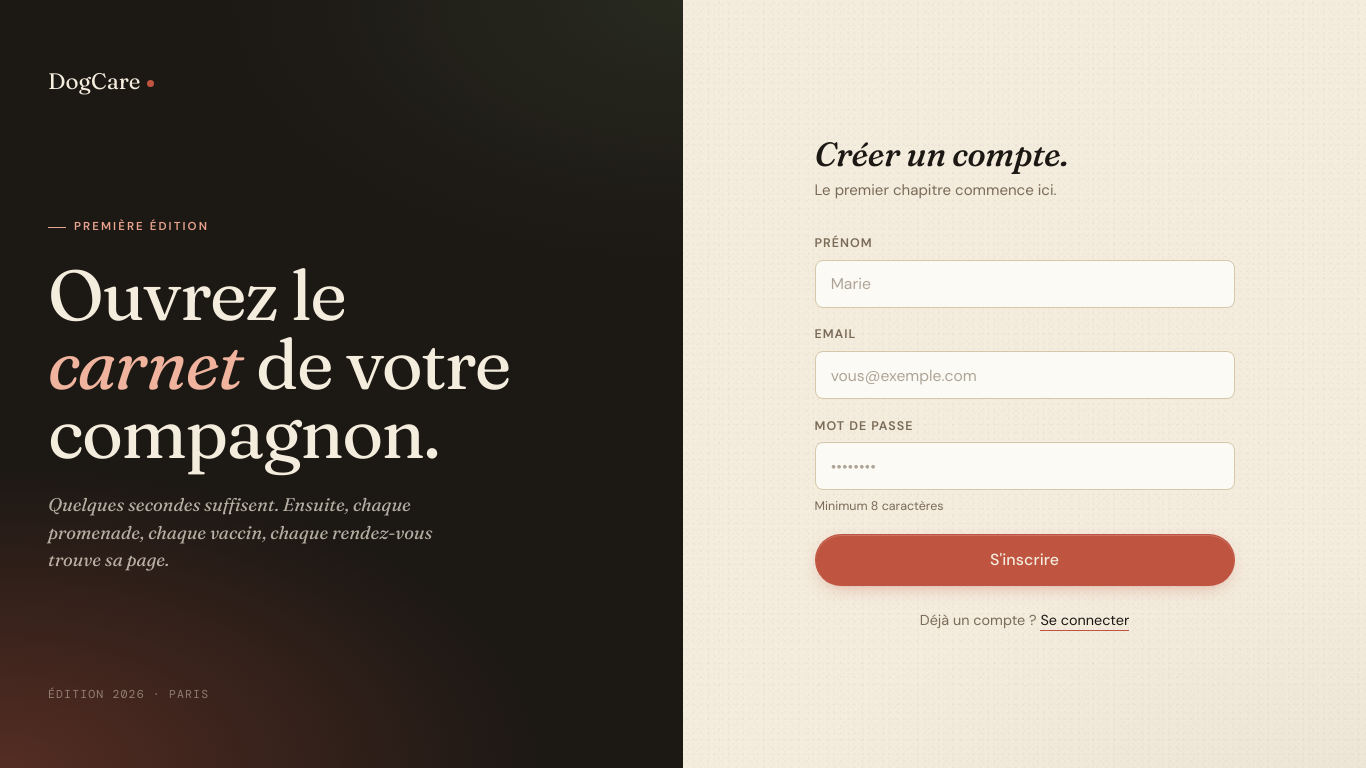
Scenario: RegisterPage › displays the API error message on failure
This screenshot has width=1366, height=768.
Type "Alice" into the field labelled "Prénom" at (1024, 284), box [814,260,1234,308]
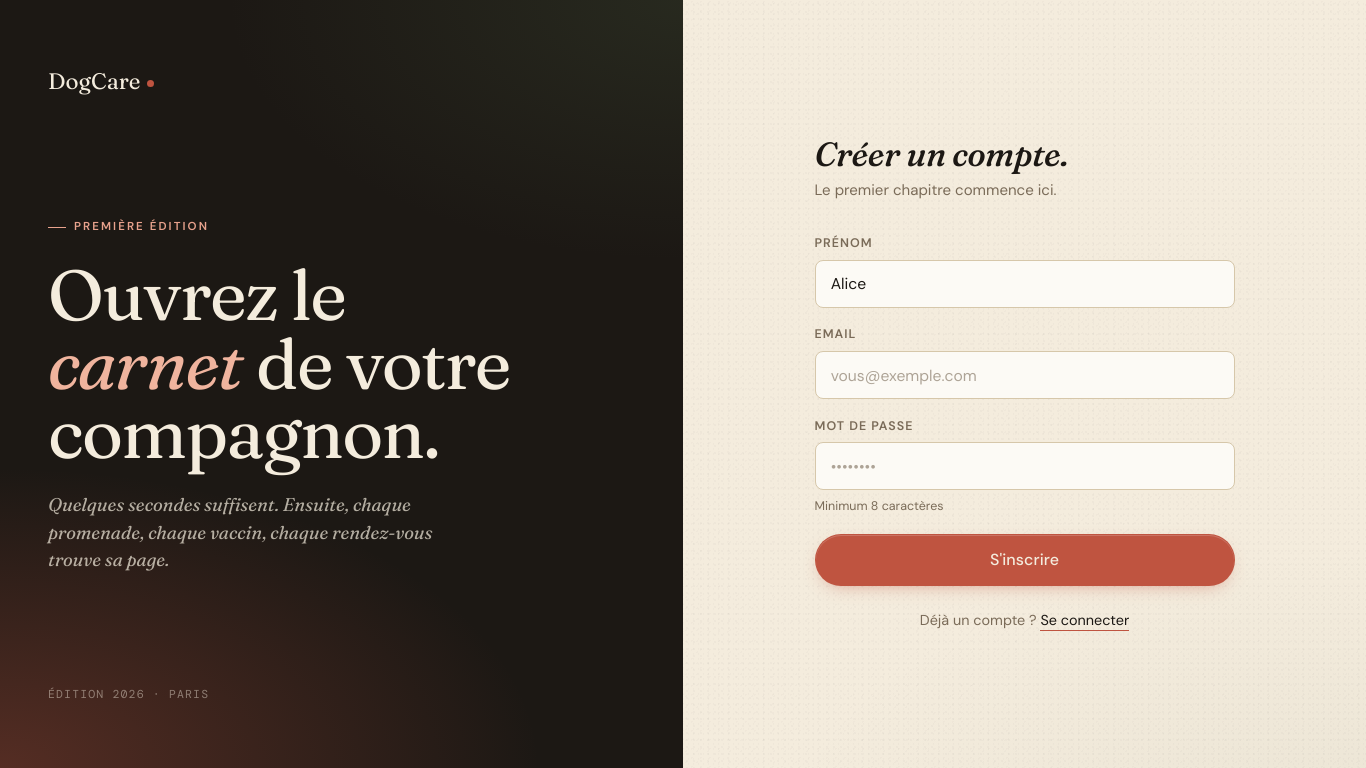
Type "a@b.com" into the field labelled "Email" at (1024, 375), box [814,351,1234,399]
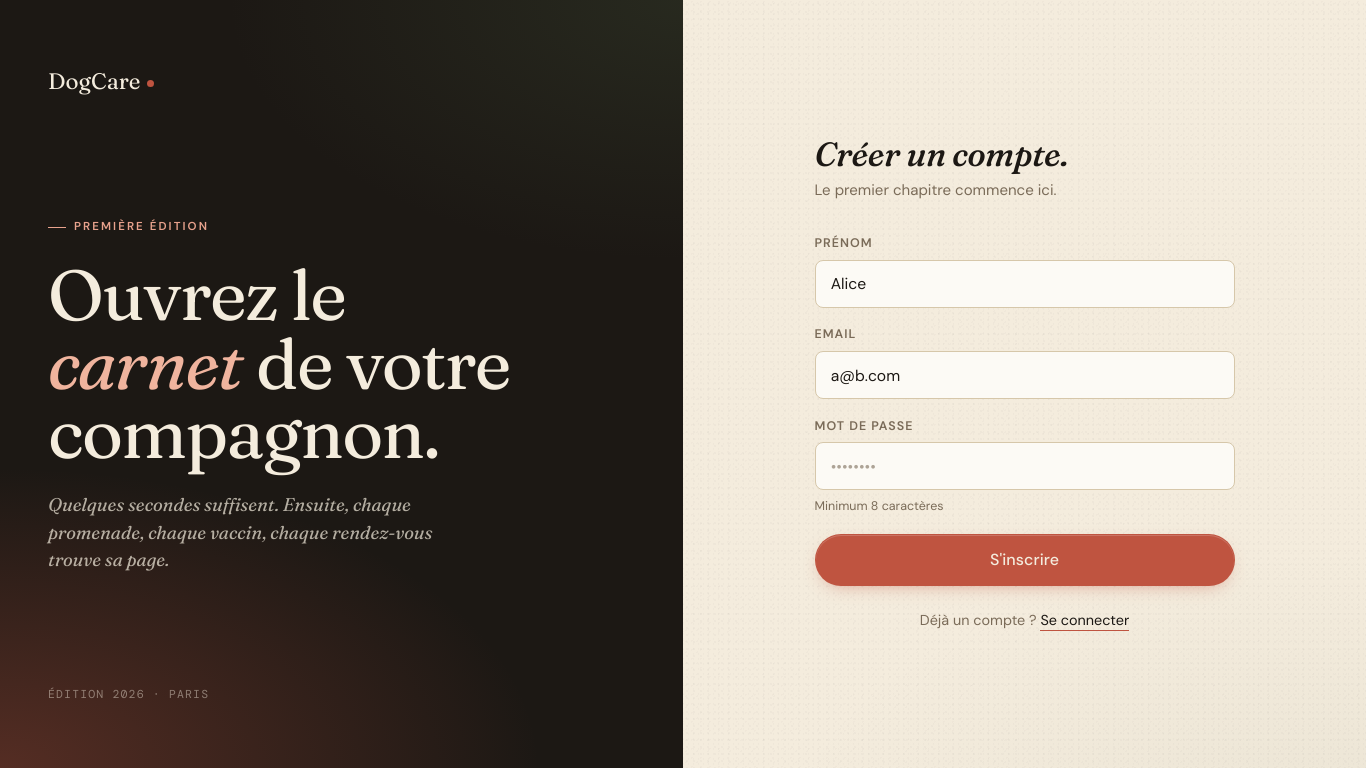
Type "longpass" into the password field labelled "Mot de passe" at (1024, 466), box [814,442,1234,490]
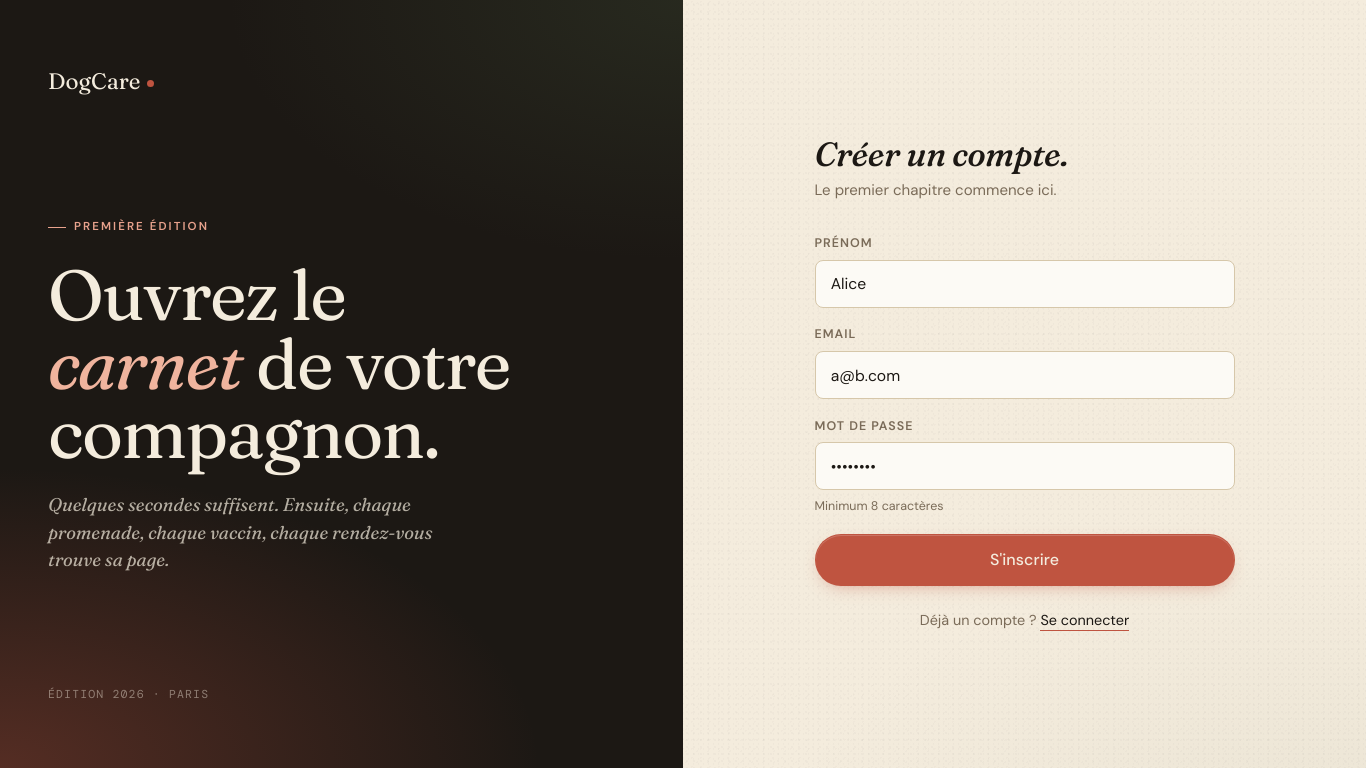
Click the button "S'inscrire" at (1024, 560), box [814,534,1234,586]
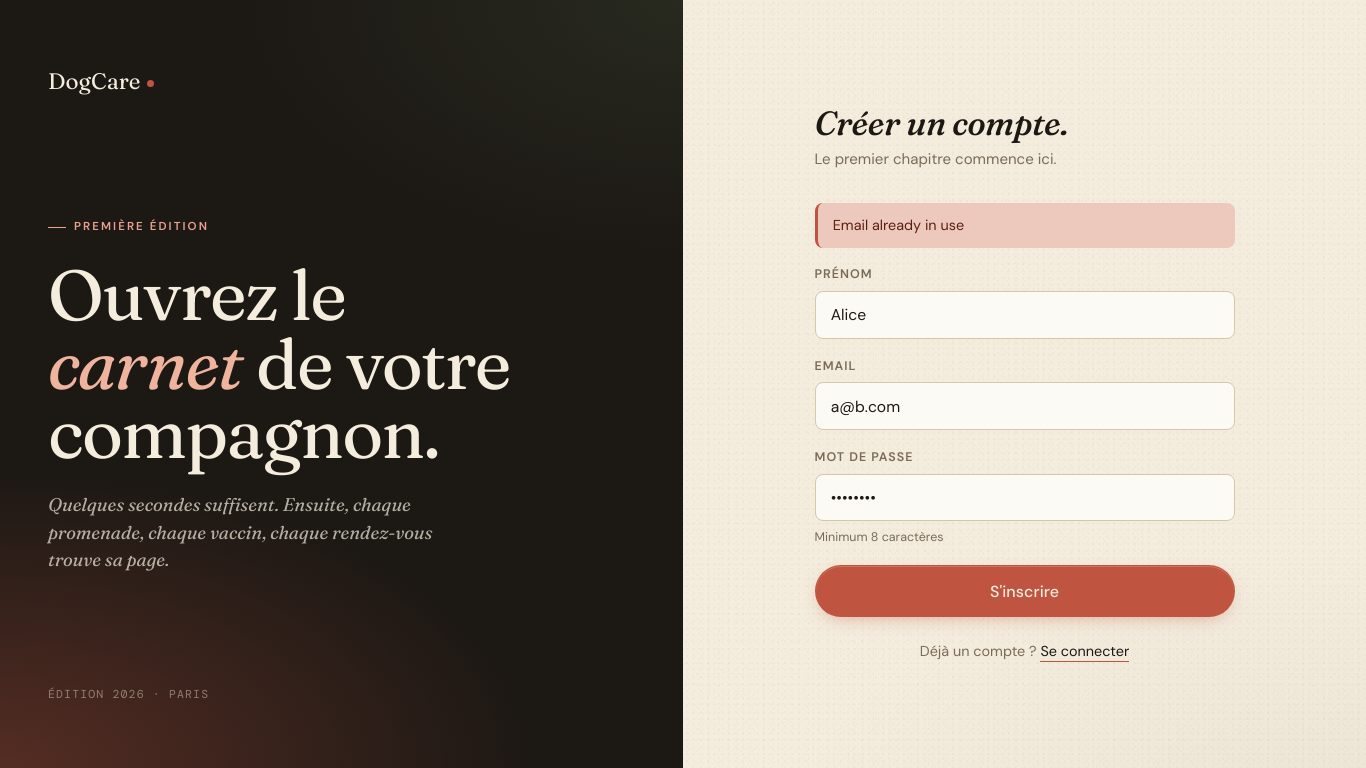
Check: the text "Email already in use" is shown, box [814,203,1234,248]
